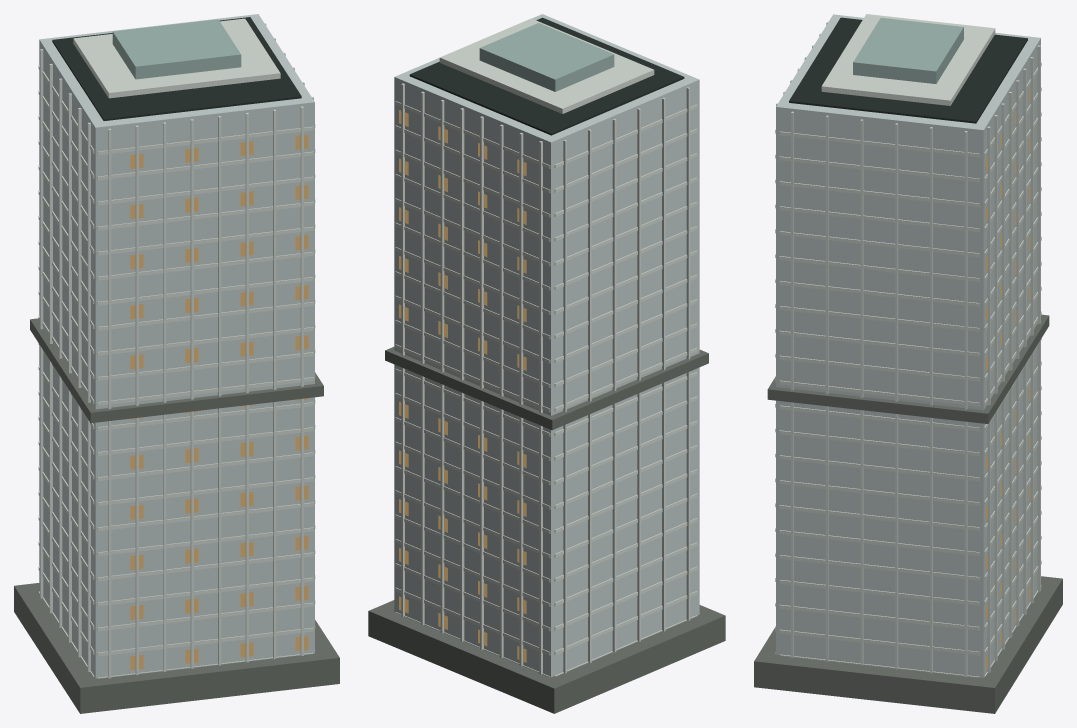
The model's file is bytedance-houhai.glb.
3 renders of one model, left to right at view 1: azimuth 30°, elevation 25°; view 2: azimuth 150°, elevation 25°; view 3: azimuth 270°, elevation 25°, orthographic. The views are drawn at different scales.
Parts seen in each view (by area): view 1: envelope, fins, floor_bands, podium, night_windows, roof_deck, crown_box, crown_box.001, refuge_belt; view 2: envelope, fins, floor_bands, podium, roof_deck, crown_box.001, crown_box, refuge_belt, night_windows; view 3: envelope, fins, floor_bands, podium, roof_deck, crown_box, crown_box.001, refuge_belt, night_windows.
Part boxes in pixels (box(x1,y1,x2,y2)): envelope: box(39, 14, 314, 678); fins: box(40, 23, 313, 678); floor_bands: box(38, 65, 315, 678); podium: box(14, 583, 339, 713); night_windows: box(130, 134, 308, 670); roof_deck: box(52, 17, 301, 120); crown_box: box(73, 18, 280, 98); crown_box.001: box(112, 19, 241, 79); refuge_belt: box(30, 318, 323, 423); envelope: box(394, 14, 699, 677); fins: box(401, 83, 690, 674); floor_bands: box(395, 101, 697, 677); podium: box(368, 600, 725, 713); roof_deck: box(409, 17, 684, 135); crown_box.001: box(479, 23, 614, 91); crown_box: box(439, 18, 654, 113); refuge_belt: box(385, 347, 708, 430); night_windows: box(399, 110, 526, 662); envelope: box(776, 14, 1040, 677); fins: box(776, 22, 1040, 677); floor_bands: box(775, 62, 1041, 677); podium: box(754, 576, 1062, 713); roof_deck: box(789, 17, 1027, 123); crown_box: box(821, 14, 995, 105); crown_box.001: box(853, 18, 963, 83); refuge_belt: box(767, 314, 1049, 423); night_windows: box(986, 87, 1030, 669).
Size of the model in its own units: 75.94 by 156 by 72.81.
